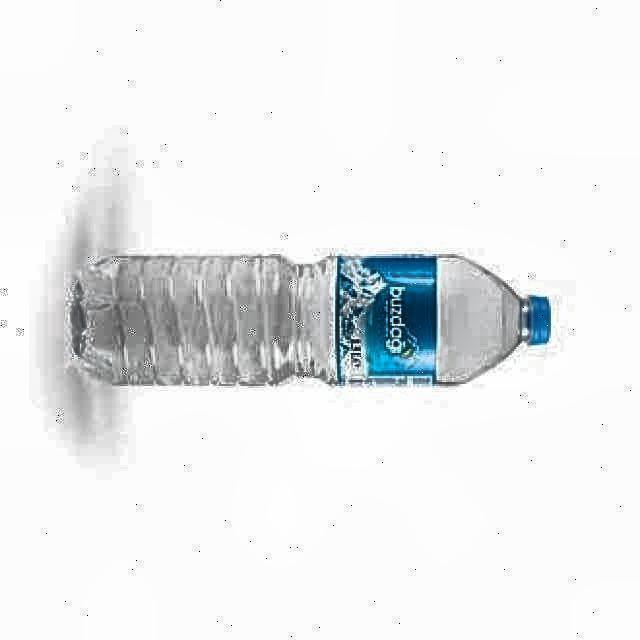plastic: (70, 255, 550, 384)
